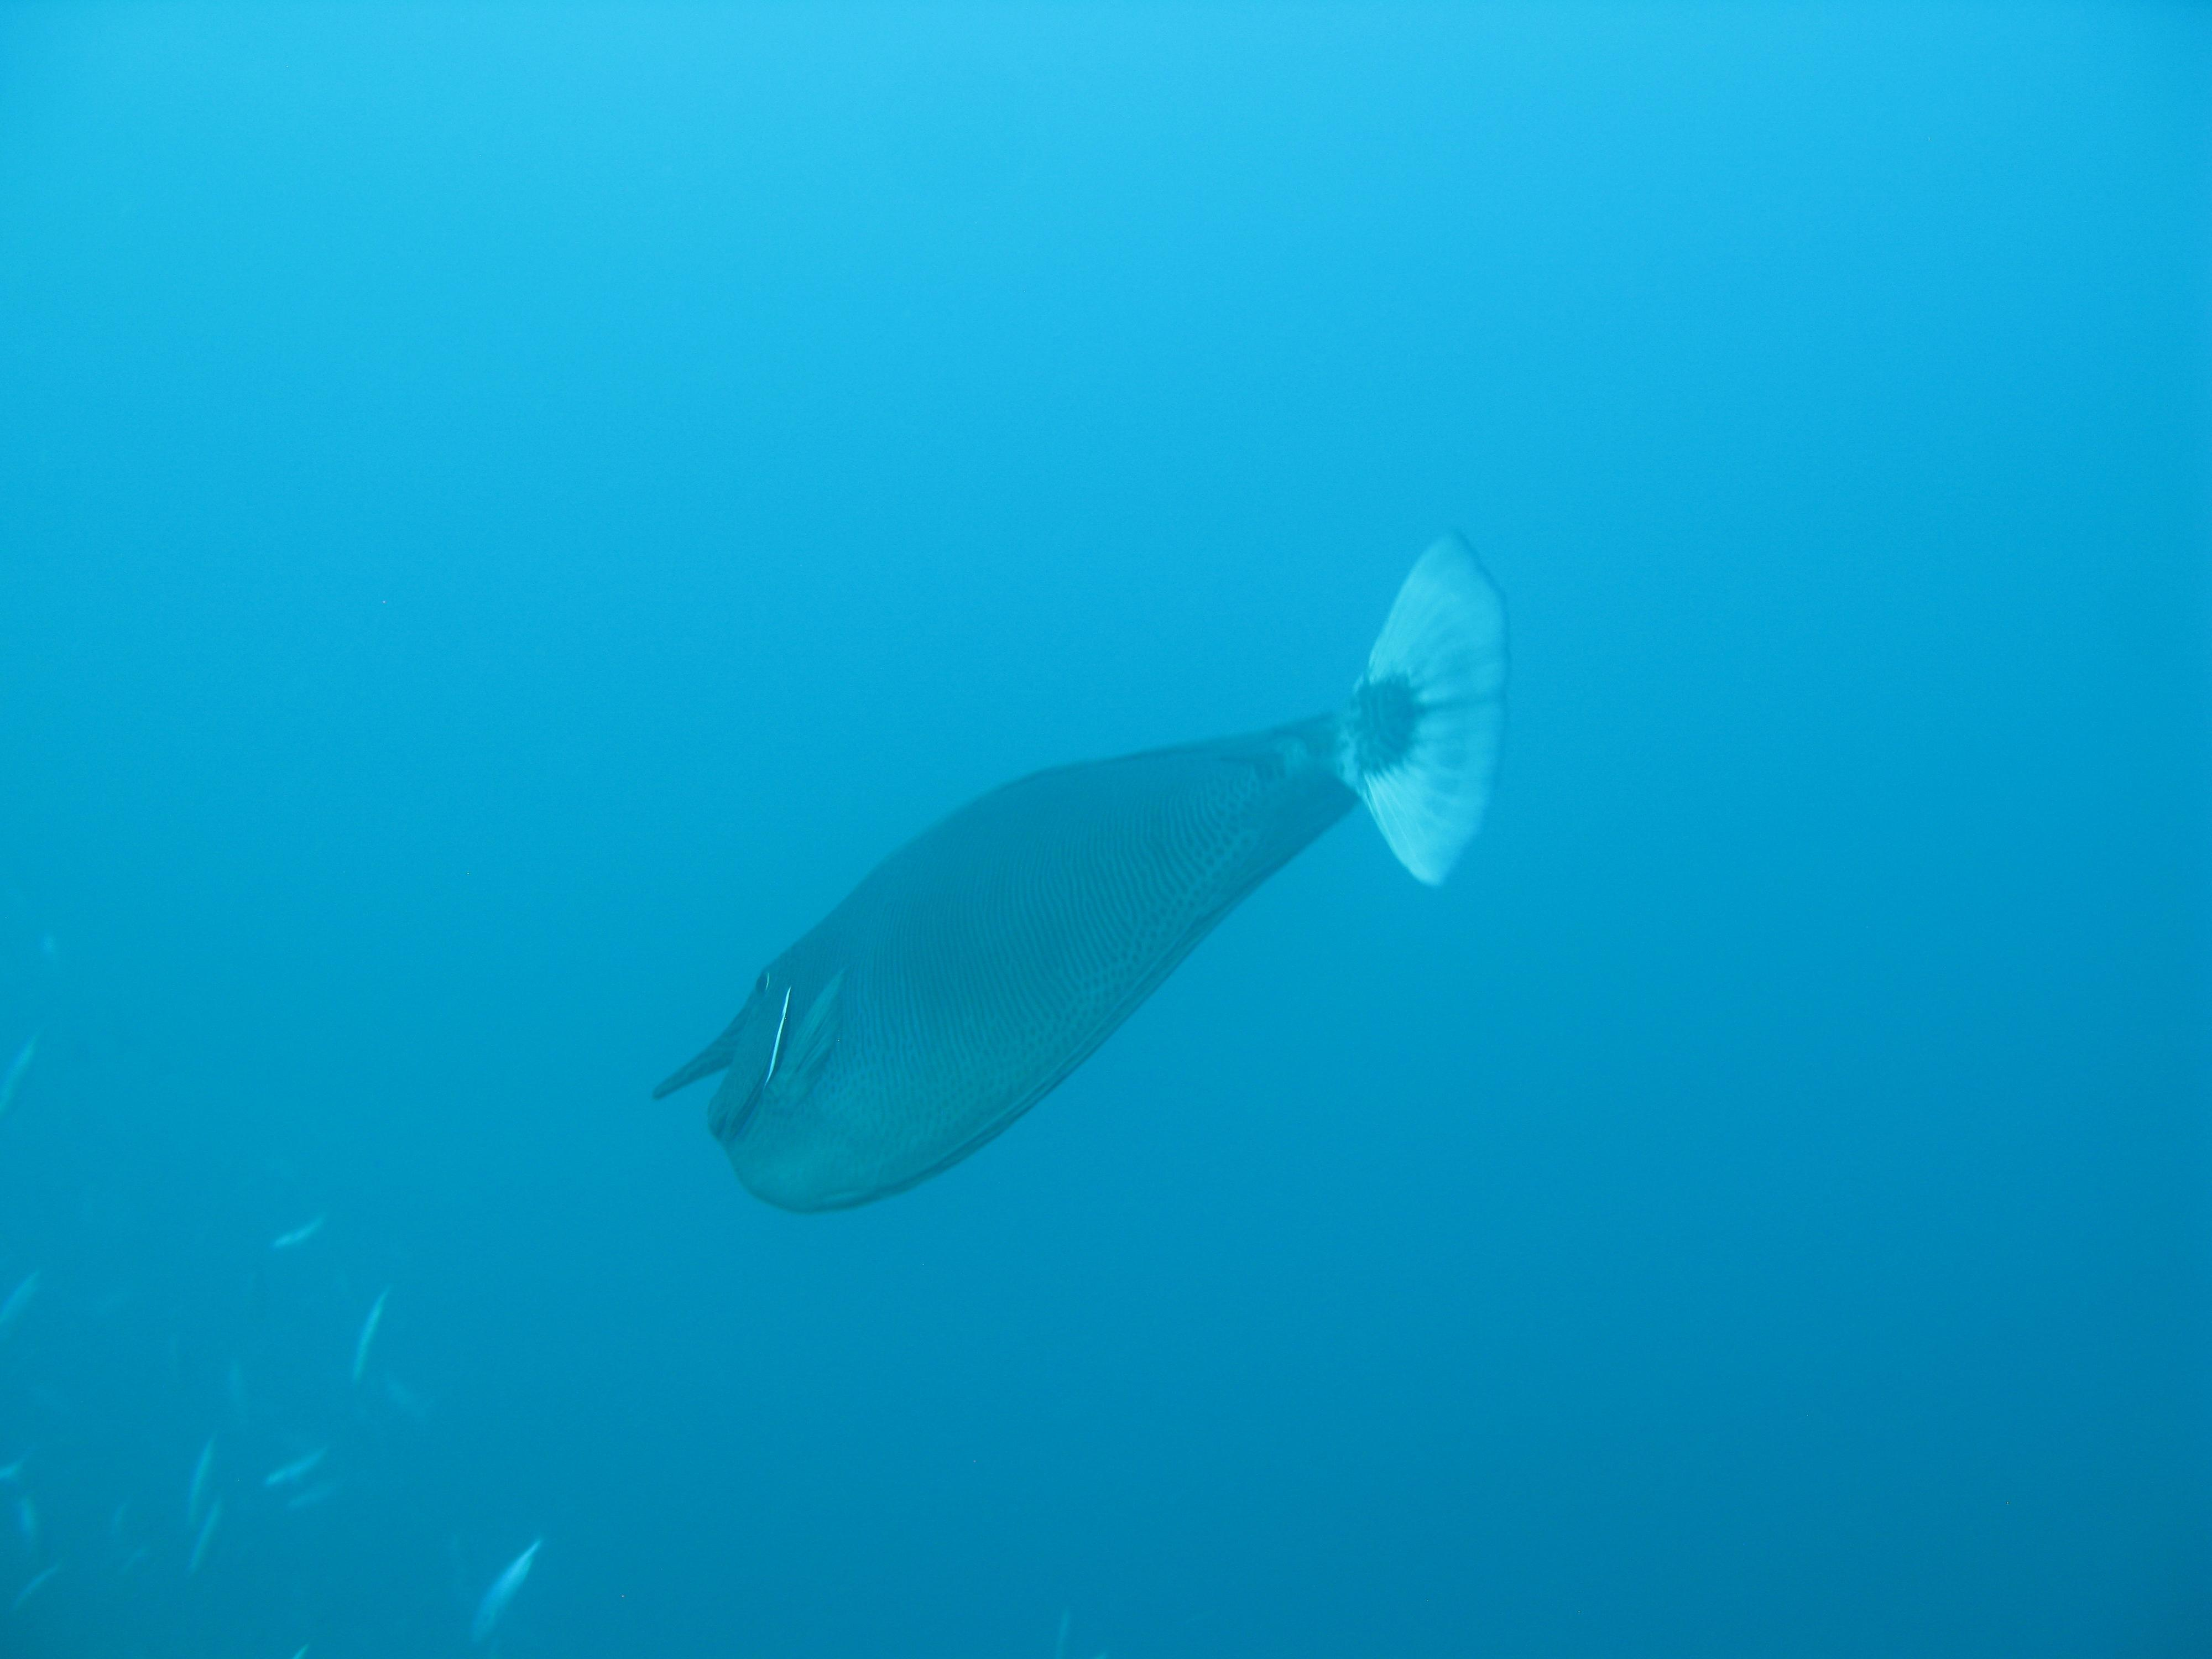Naso brevicordatus: (481, 415, 1836, 1391)
